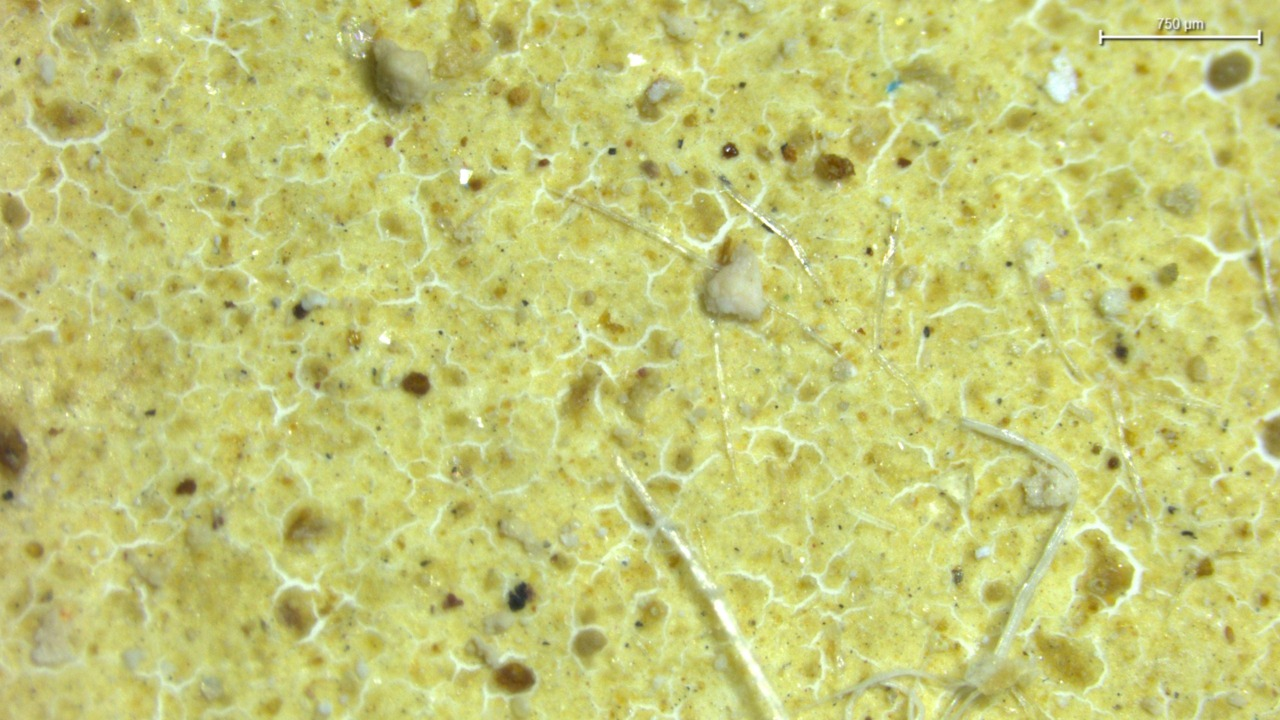microplastic_fragment: (706, 245, 765, 321), (373, 39, 433, 105)
